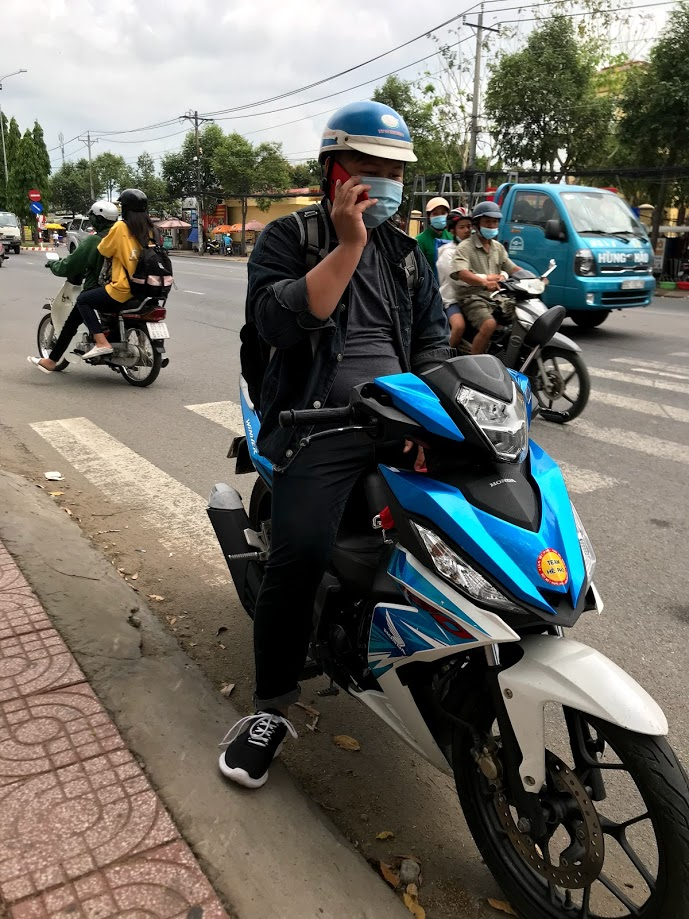dieu khien xe may: (290, 95, 594, 666)
su dung dien thoai: (312, 98, 417, 259)
